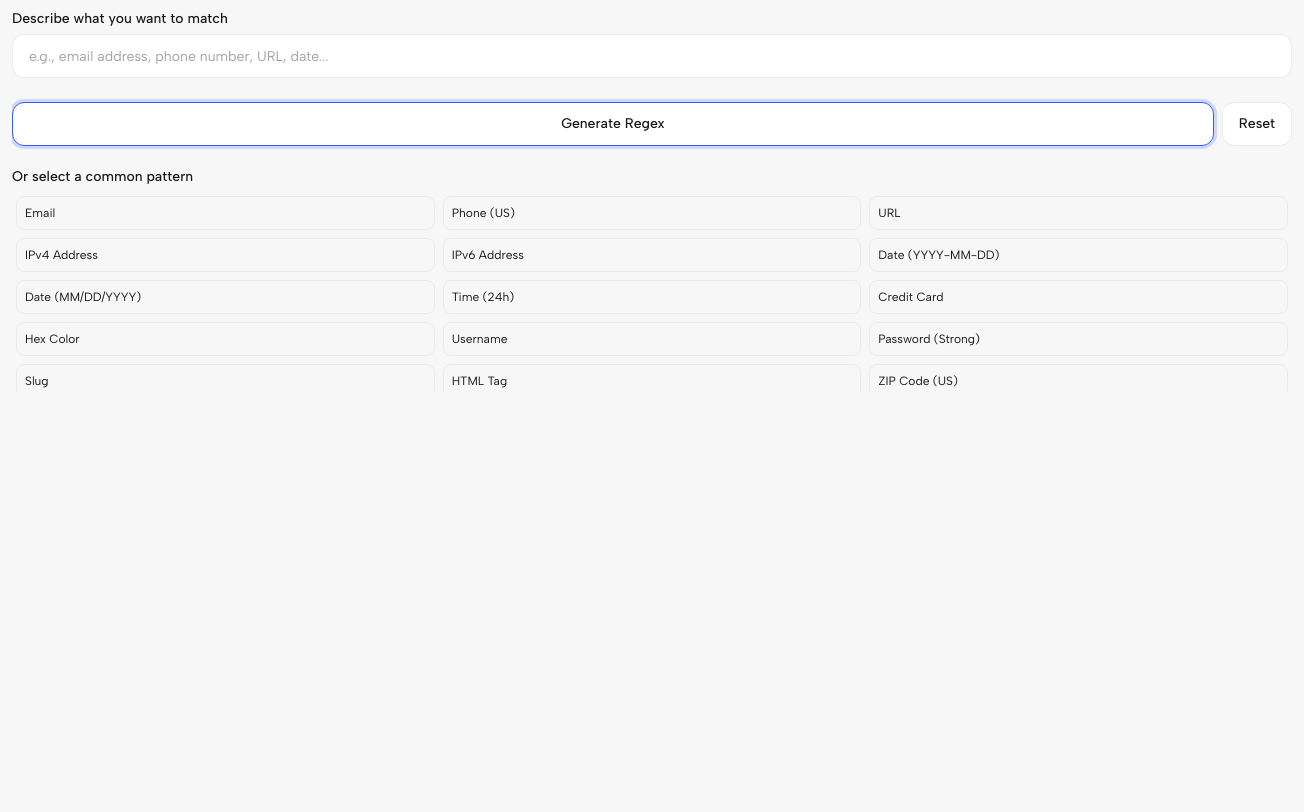
Test case: RegexGeneratorTool › generates email pattern from description
The width and height of the screenshot is (1304, 812).
Type "email address" into the field with placeholder "e.g., email address, phone number, URL, date..." at (652, 56), box [12,34,1292,78]
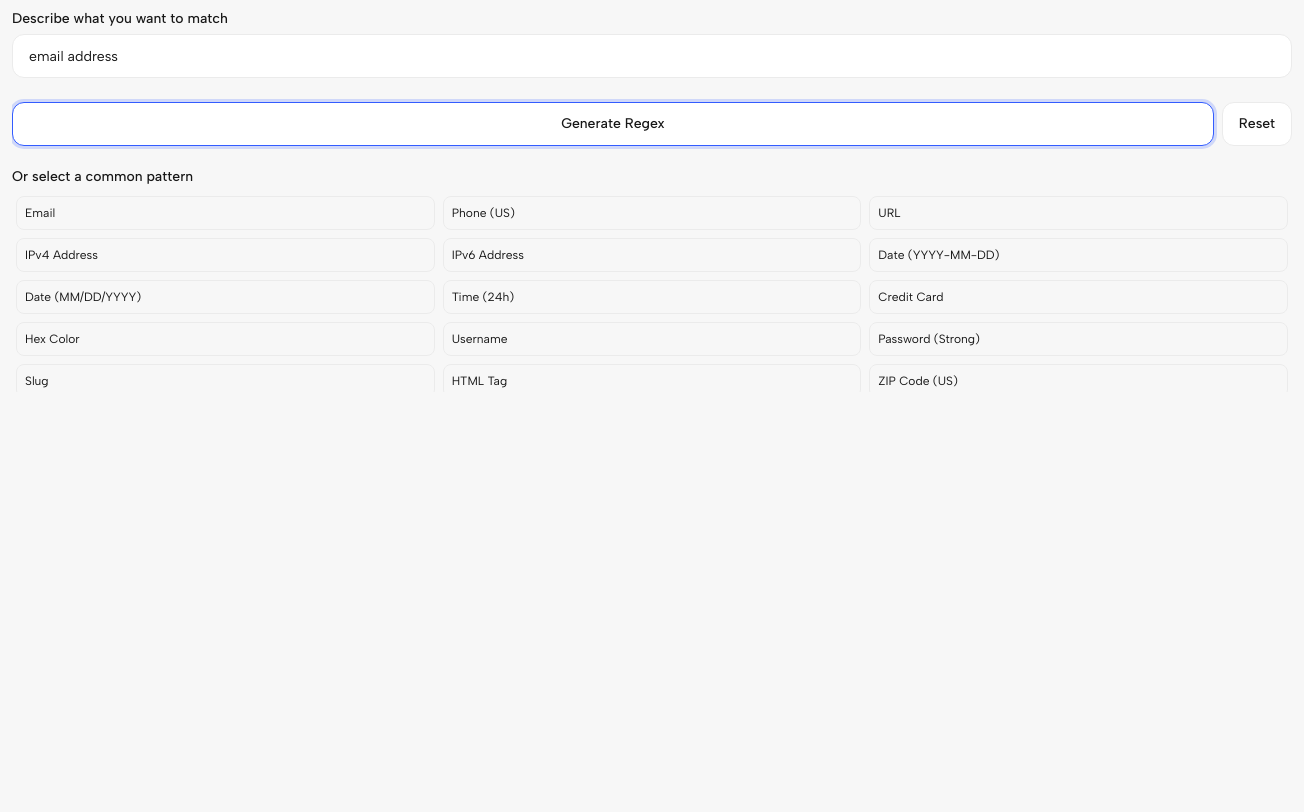
Click the button "Generate Regex" at (613, 124), box [12,102,1214,146]
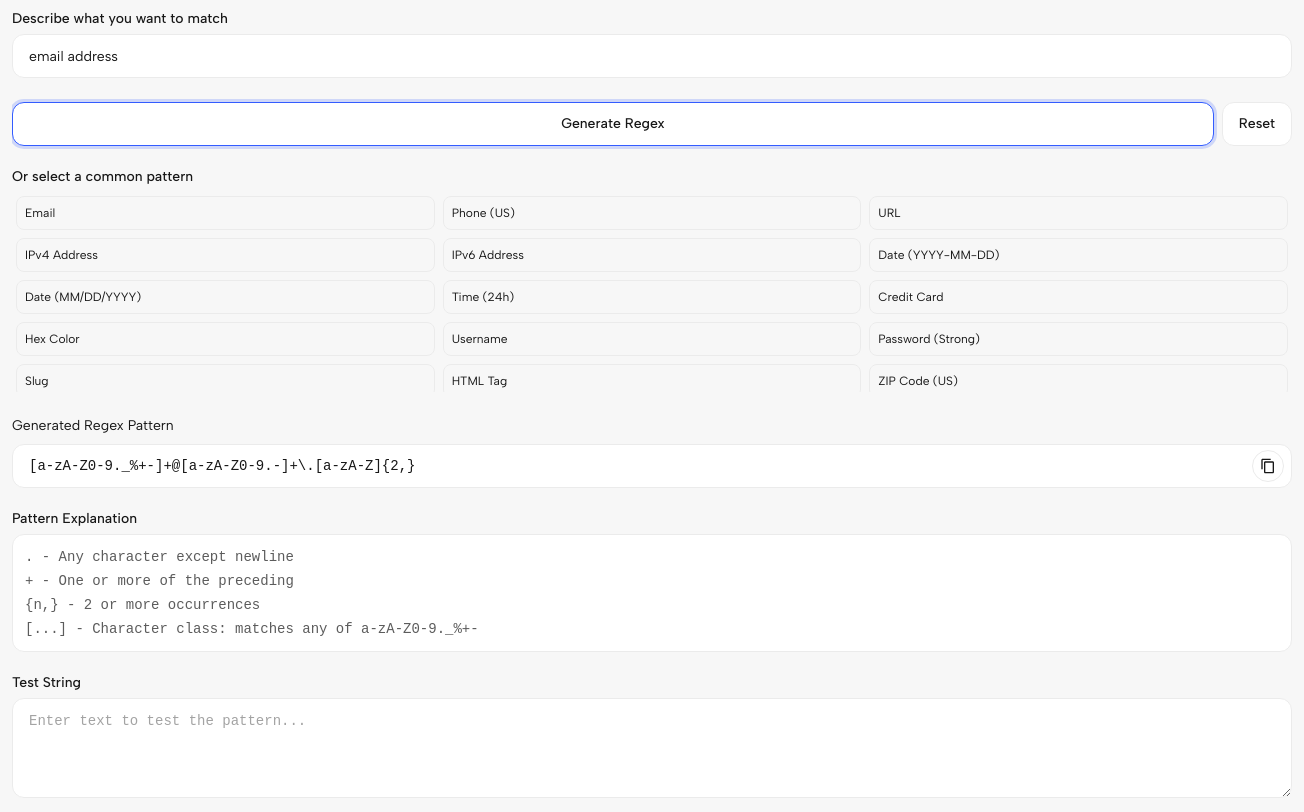
Check: the text "Generated Regex Pattern" is shown, box [12,417,174,434]
Check: the text "Pattern Explanation" is shown, box [12,510,137,527]
